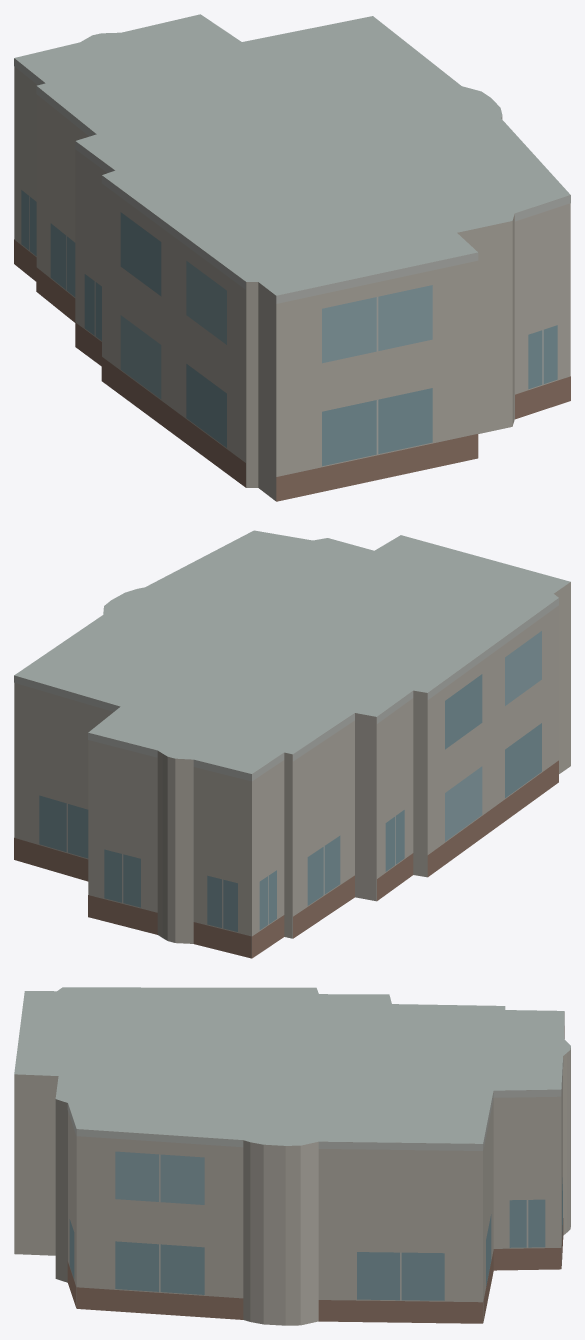
The model's file is survey-upis-32849202.glb.
3 views of the same model, one above another, from view 1: azimuth 30°, elevation 25°; view 2: azimuth 150°, elevation 25°; view 3: azimuth 270°, elevation 25° (orthographic). The views are drawn at different scales.
Visible parts, largest first — view 1: survey-upis-32849202.tmp; view 2: survey-upis-32849202.tmp; view 3: survey-upis-32849202.tmp.
Part boxes in pixels (x1,y1,x2,y2): survey-upis-32849202.tmp: [14, 14, 570, 501]; survey-upis-32849202.tmp: [14, 530, 570, 958]; survey-upis-32849202.tmp: [14, 987, 570, 1325].
Bounding box in the file's own units: 11.55 × 6.1 × 17.13.
